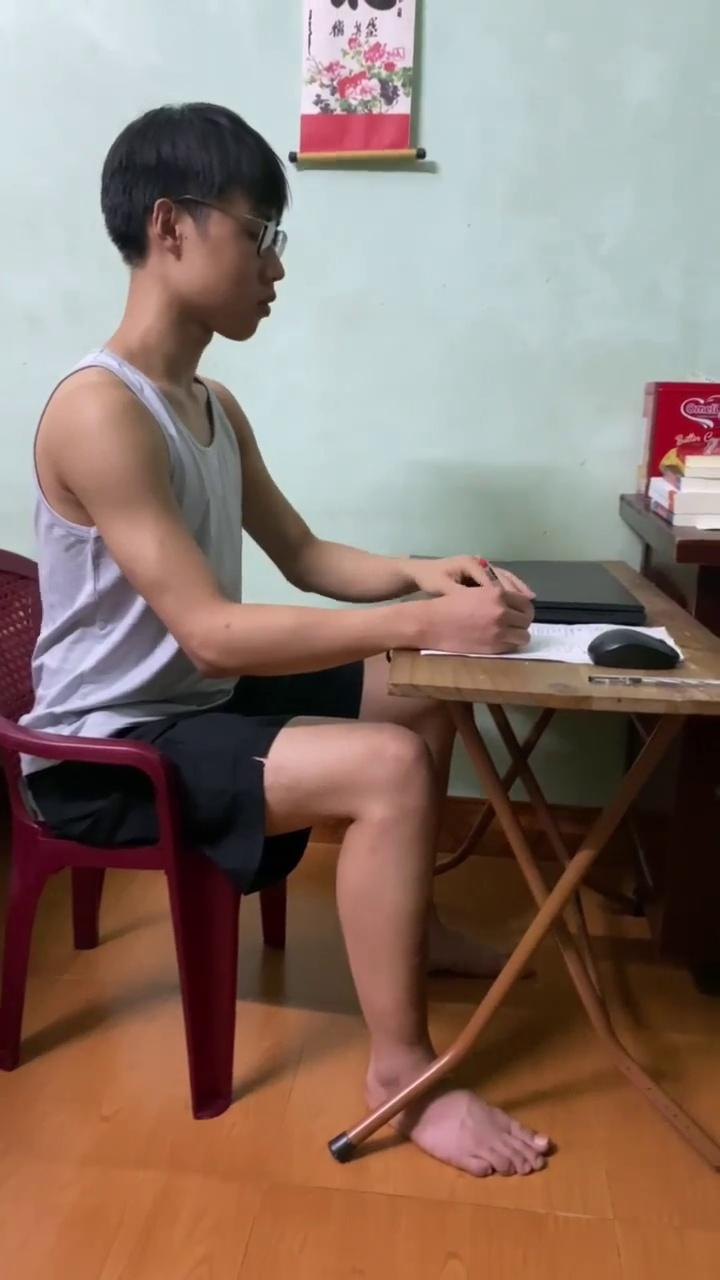GoodPosture: (24, 102, 532, 1106)
